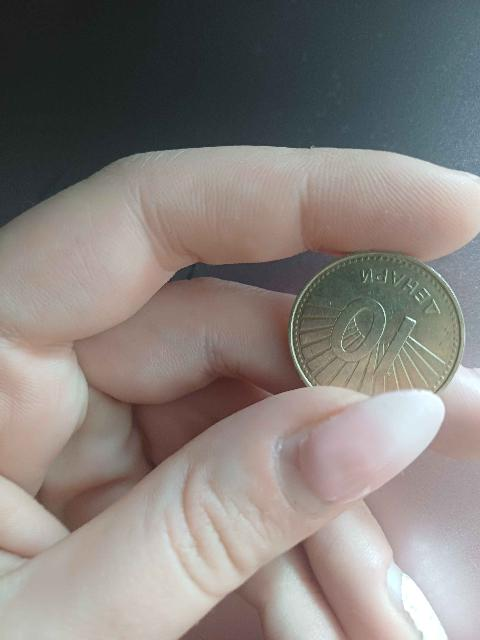coin: (290, 252, 464, 395)
